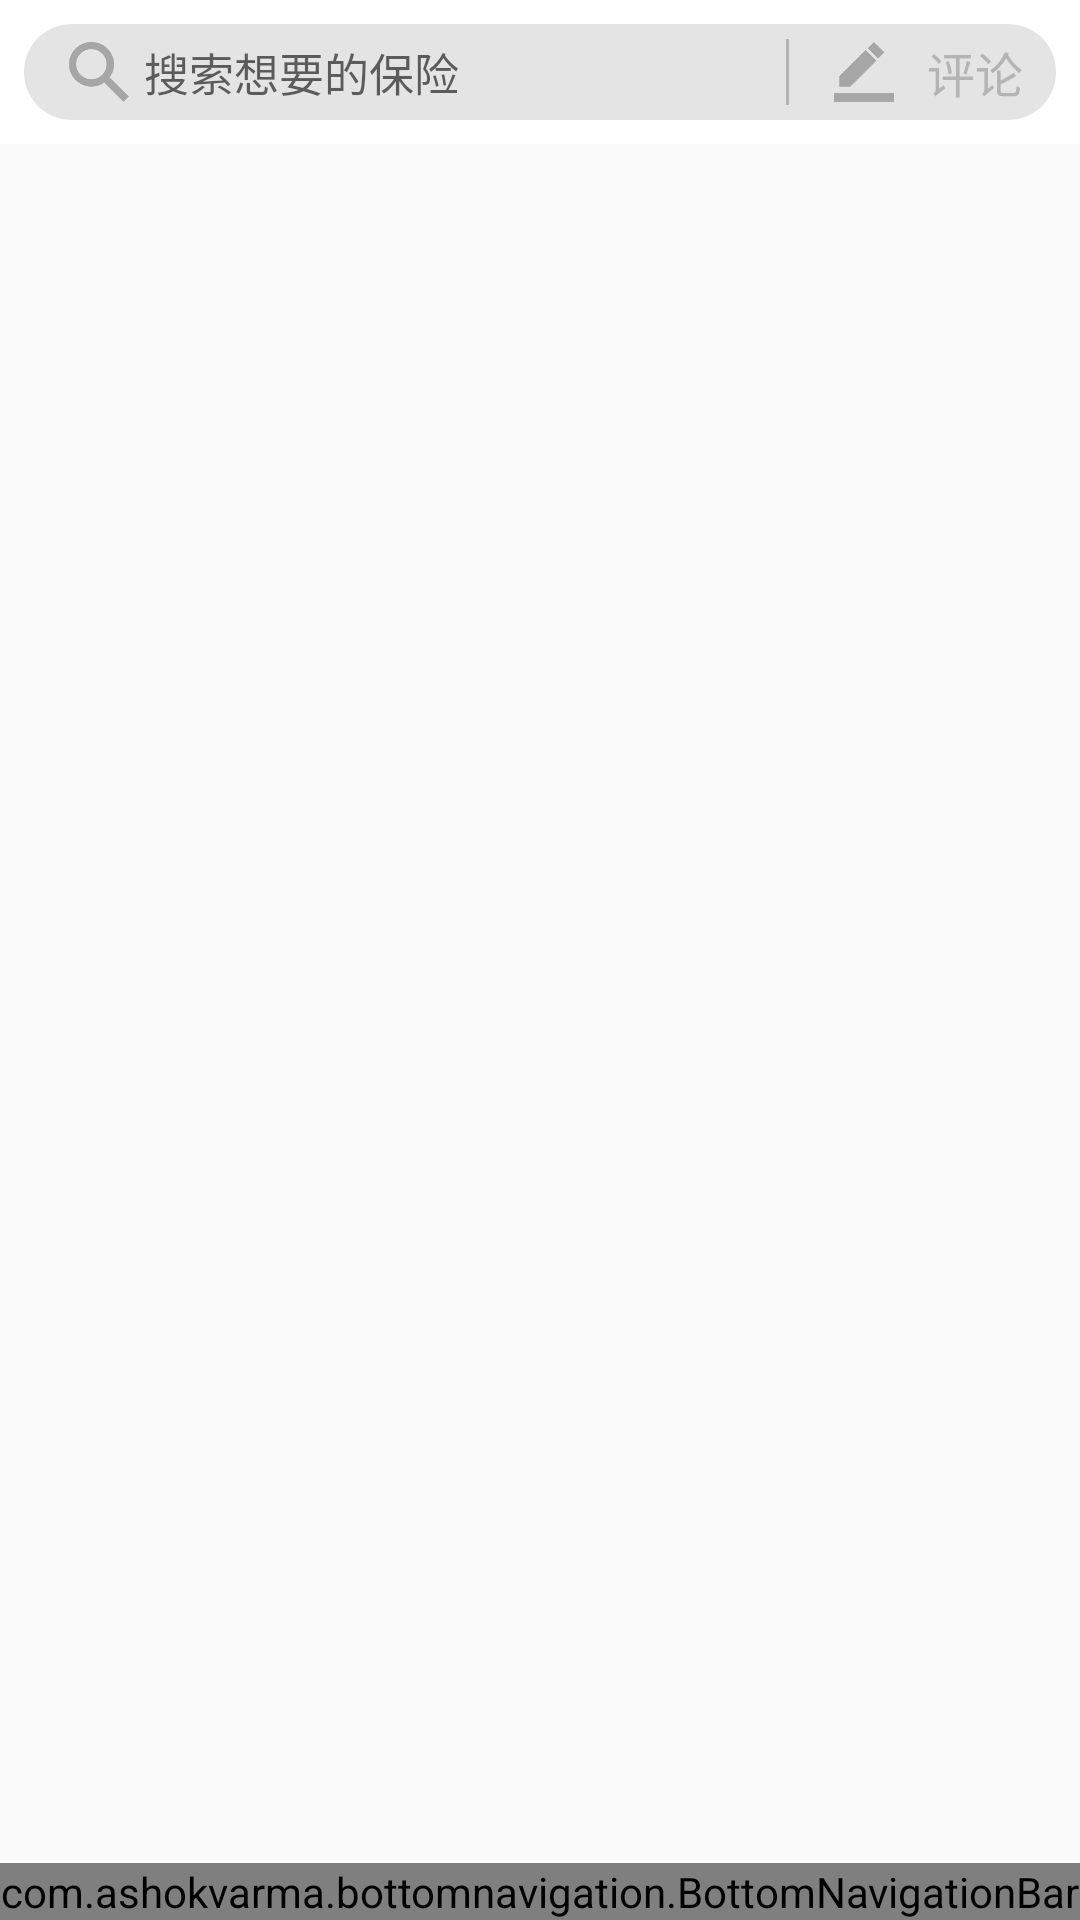

Icons on this 1080w x 1920h Android screen, each with the point to tap as (x,y):
edit: (864,72)
